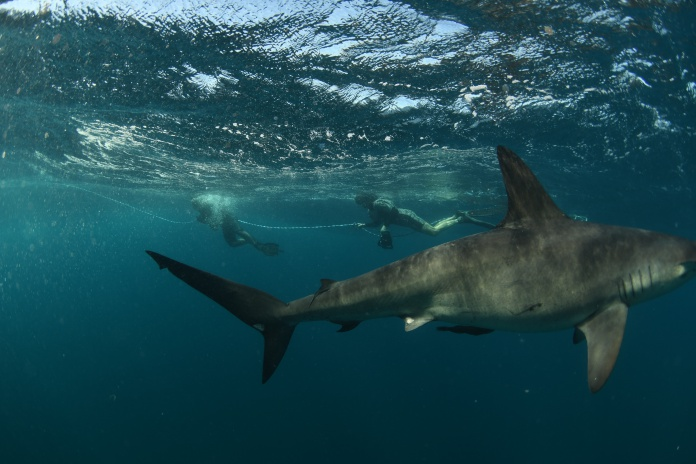Hammer: (112, 131, 696, 394), (207, 239, 462, 373)
